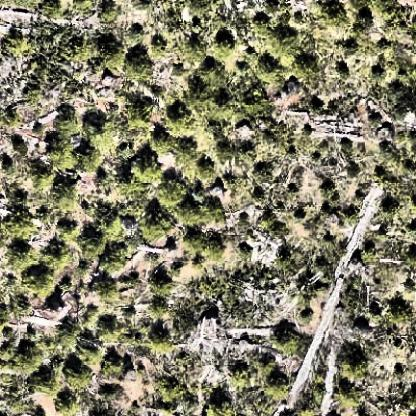tree-top: (21, 260, 58, 296), (83, 115, 120, 149), (270, 322, 305, 357), (123, 48, 157, 83), (289, 51, 325, 83), (47, 178, 79, 211), (2, 214, 39, 240), (62, 360, 93, 391), (95, 38, 125, 70), (169, 106, 196, 141), (131, 158, 163, 187), (158, 179, 188, 209), (337, 355, 370, 382), (147, 329, 178, 357), (174, 145, 202, 176), (49, 142, 78, 171), (95, 275, 123, 304), (262, 375, 291, 402), (98, 316, 124, 345), (101, 244, 131, 269), (335, 382, 364, 406), (101, 352, 127, 378), (58, 115, 83, 141), (82, 233, 107, 258), (186, 229, 210, 254), (230, 365, 254, 389), (358, 244, 381, 268), (201, 62, 223, 87), (208, 238, 228, 260)
